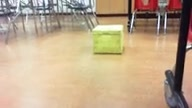cube: (92, 25, 123, 54)
